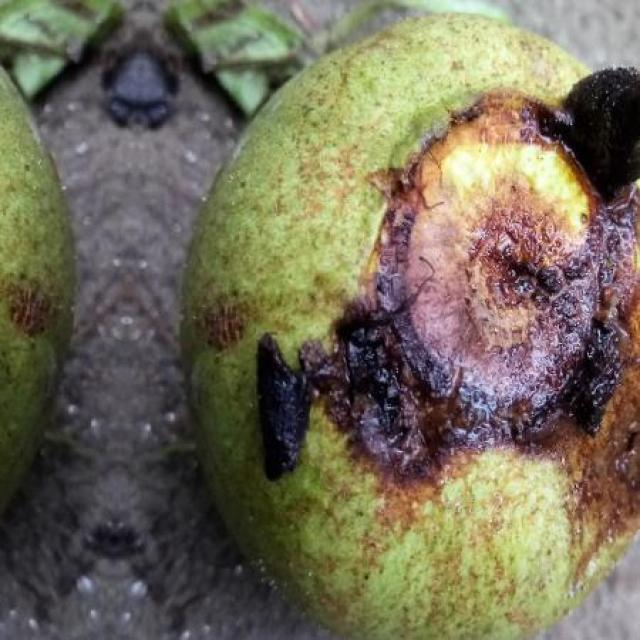Styler and Root: (184, 15, 640, 640), (1, 68, 75, 513)
